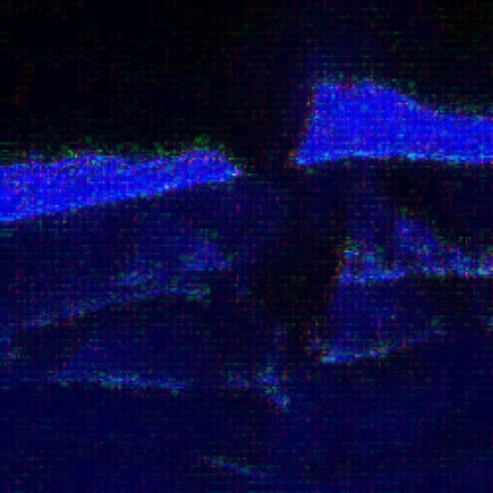rip_current: (194, 33, 374, 388)
